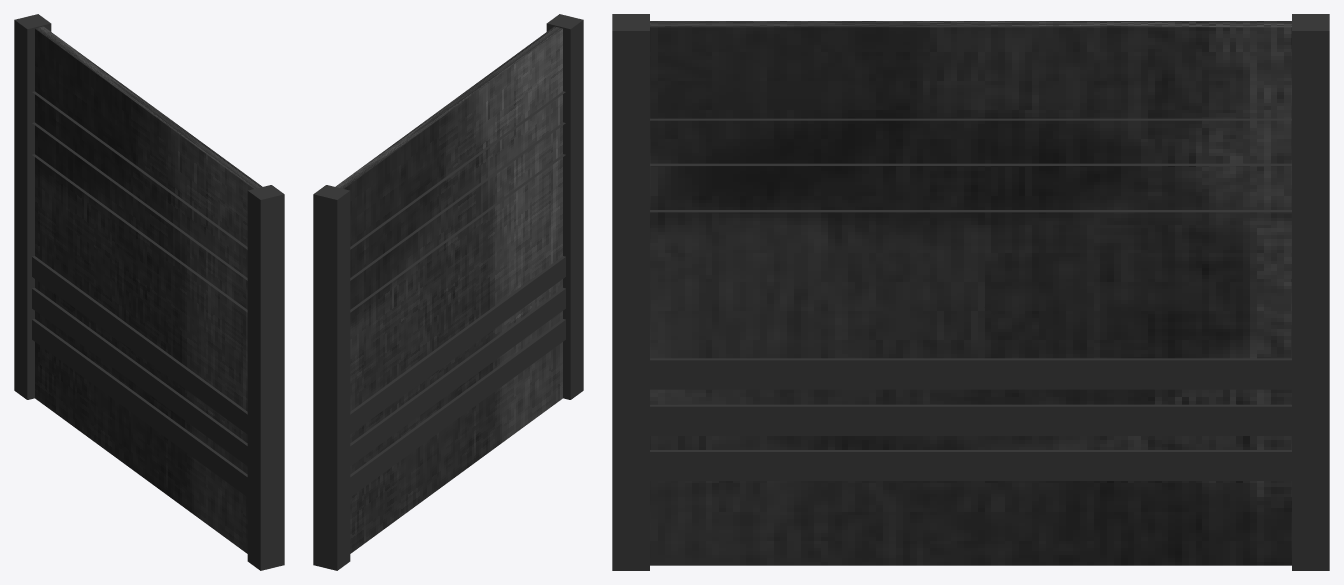
Rendered from basic_wall.glb.
3 views of the same model, side by side, from view 1: azimuth 30°, elevation 25°; view 2: azimuth 150°, elevation 25°; view 3: azimuth 270°, elevation 25° (orthographic). The views are drawn at different scales.
Visible parts, largest first — view 1: wall; view 2: wall; view 3: wall.
Part boxes in pixels (<box>): wall: <box>14,14,284,570</box>; wall: <box>313,14,583,570</box>; wall: <box>612,14,1329,570</box>.
Size of the model in its own units: 0.2948 by 4.38 by 5.27.
Materials: 2 (1 with a texture image).
